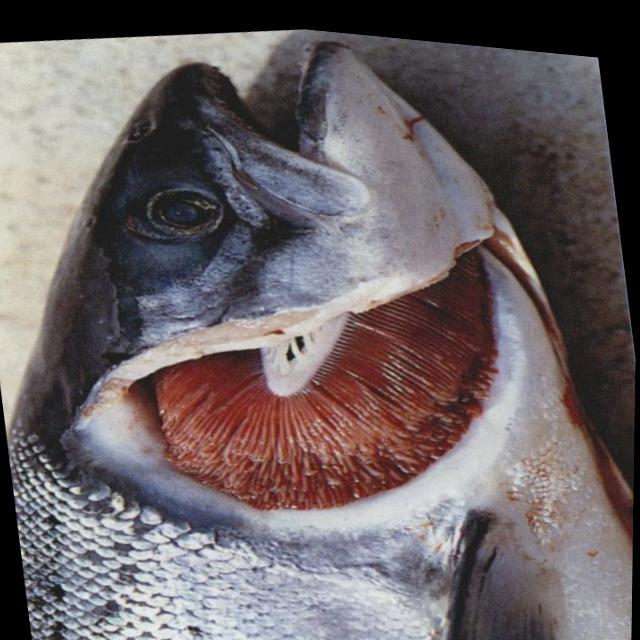Gill Disease: (12, 49, 628, 616)
